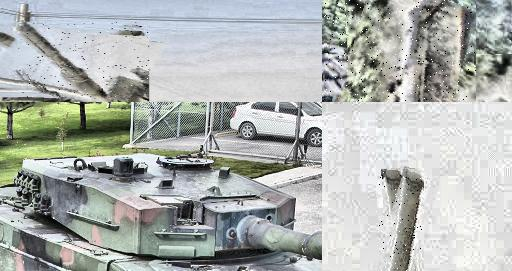tanks: (1, 155, 323, 271), (20, 23, 150, 102), (395, 1, 477, 103), (392, 170, 424, 271), (1, 65, 5, 71)
